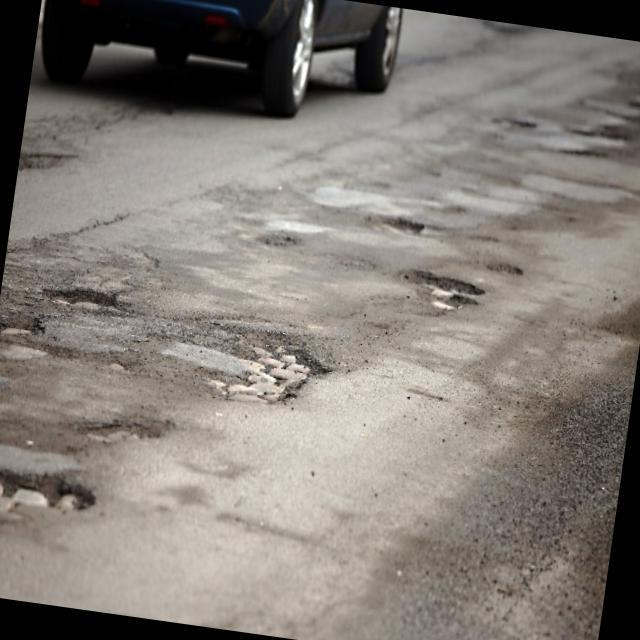Pothole: (214, 304, 360, 466), (0, 435, 146, 572), (0, 298, 96, 407), (26, 272, 166, 344), (418, 256, 512, 350), (16, 135, 126, 198), (339, 204, 442, 252), (262, 226, 351, 278), (556, 134, 630, 162), (496, 116, 543, 140)
